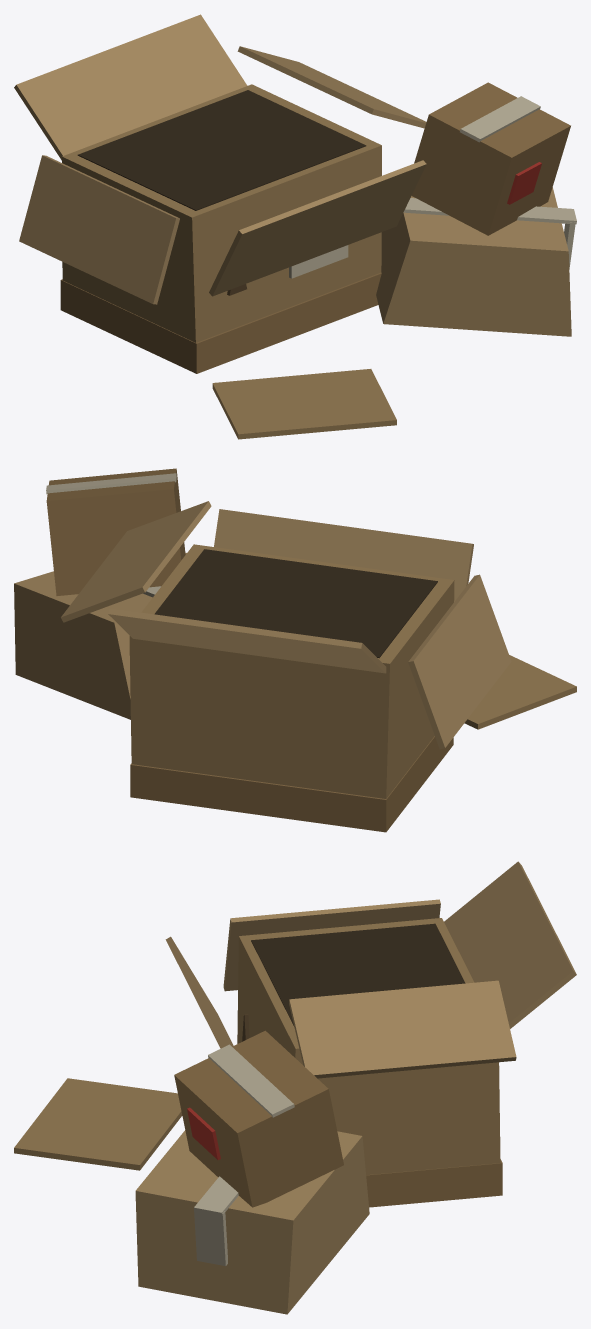
Rendered from caixas_papelao.glb.
The picture shows the model from 3 angles, top to bottom: view 1: azimuth 30°, elevation 25°; view 2: azimuth 150°, elevation 25°; view 3: azimuth 270°, elevation 25°; orthographic projection. The views are drawn at different scales.
Parts seen in each view (by area): view 1: caixas_papelao.001; view 2: caixas_papelao.001; view 3: caixas_papelao.001.
Boxes of the visible parts, <box> form: caixas_papelao.001: <box>14,14,576,439</box>; caixas_papelao.001: <box>14,468,576,832</box>; caixas_papelao.001: <box>14,861,576,1314</box>.
Size of the model in its own units: 1.13 by 0.4949 by 1.1.
